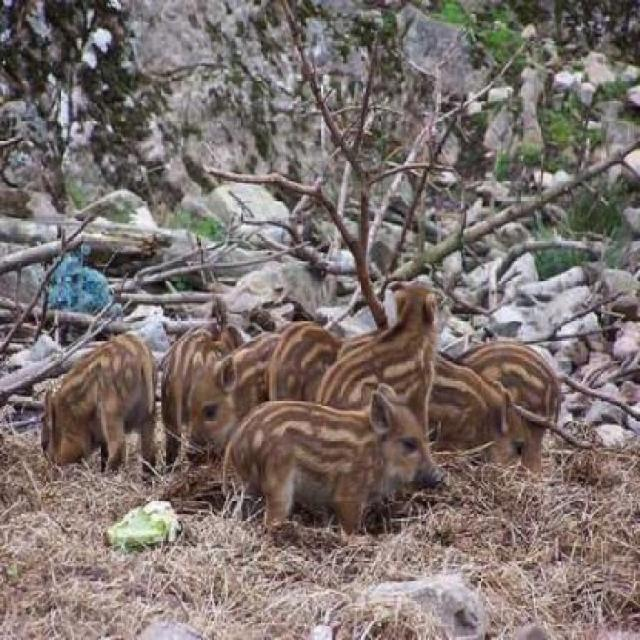pig: (207, 368, 446, 523), (15, 276, 162, 434), (486, 300, 610, 407), (388, 254, 474, 391), (269, 318, 361, 376), (429, 363, 526, 413), (238, 312, 287, 386), (158, 300, 201, 382)
